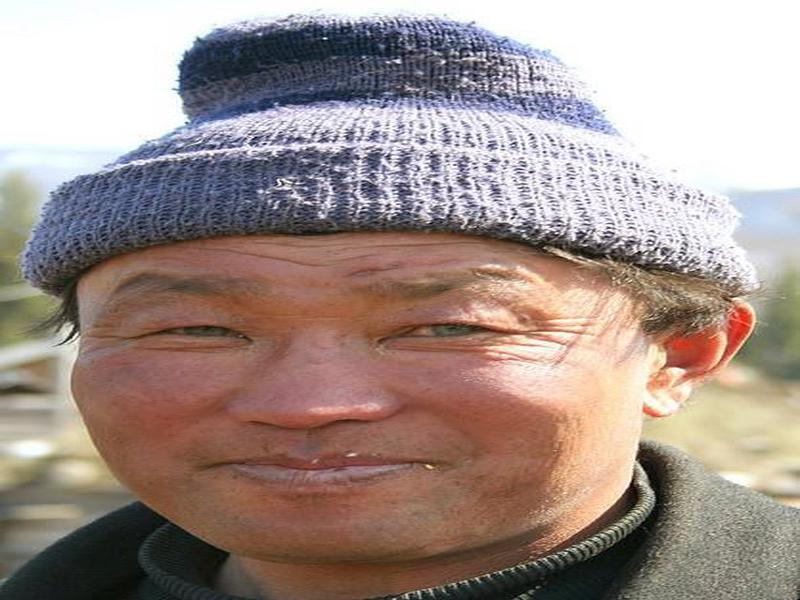person: (25, 16, 790, 600)
